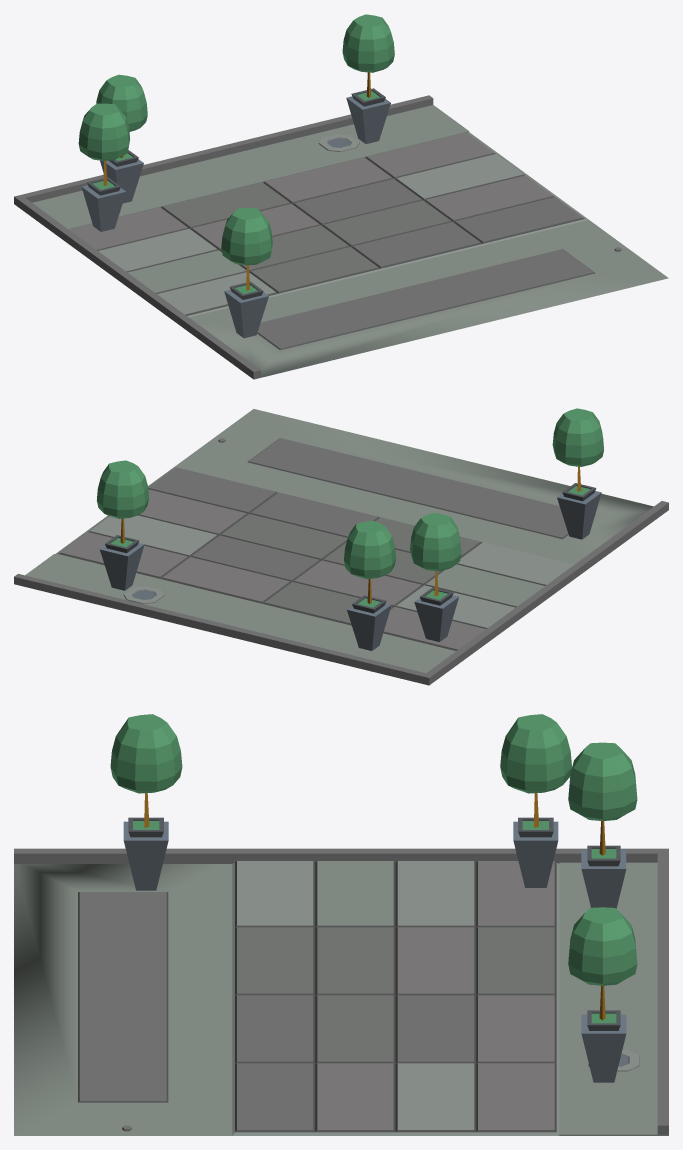
Rendered from OpenCorner_C.gltf.
3 renders of one model, top to bottom at view 1: azimuth 30°, elevation 25°; view 2: azimuth 150°, elevation 25°; view 3: azimuth 270°, elevation 25°, orthographic. The views are drawn at different scales.
Parts seen in each view (by area): view 1: Scifi_Panel_02 Plaza014_group4.023; view 2: Scifi_Panel_02 Plaza014_group4.023; view 3: Scifi_Panel_02 Plaza014_group4.023.
Part boxes in pixels (x1,y1,x2,y2): Scifi_Panel_02 Plaza014_group4.023: [14, 14, 668, 379]; Scifi_Panel_02 Plaza014_group4.023: [14, 408, 668, 685]; Scifi_Panel_02 Plaza014_group4.023: [14, 714, 668, 1135].
Size of what is drawn, in the model's own units: 10 by 2.77 by 10.
Materials: 1 (1 with a texture image).
